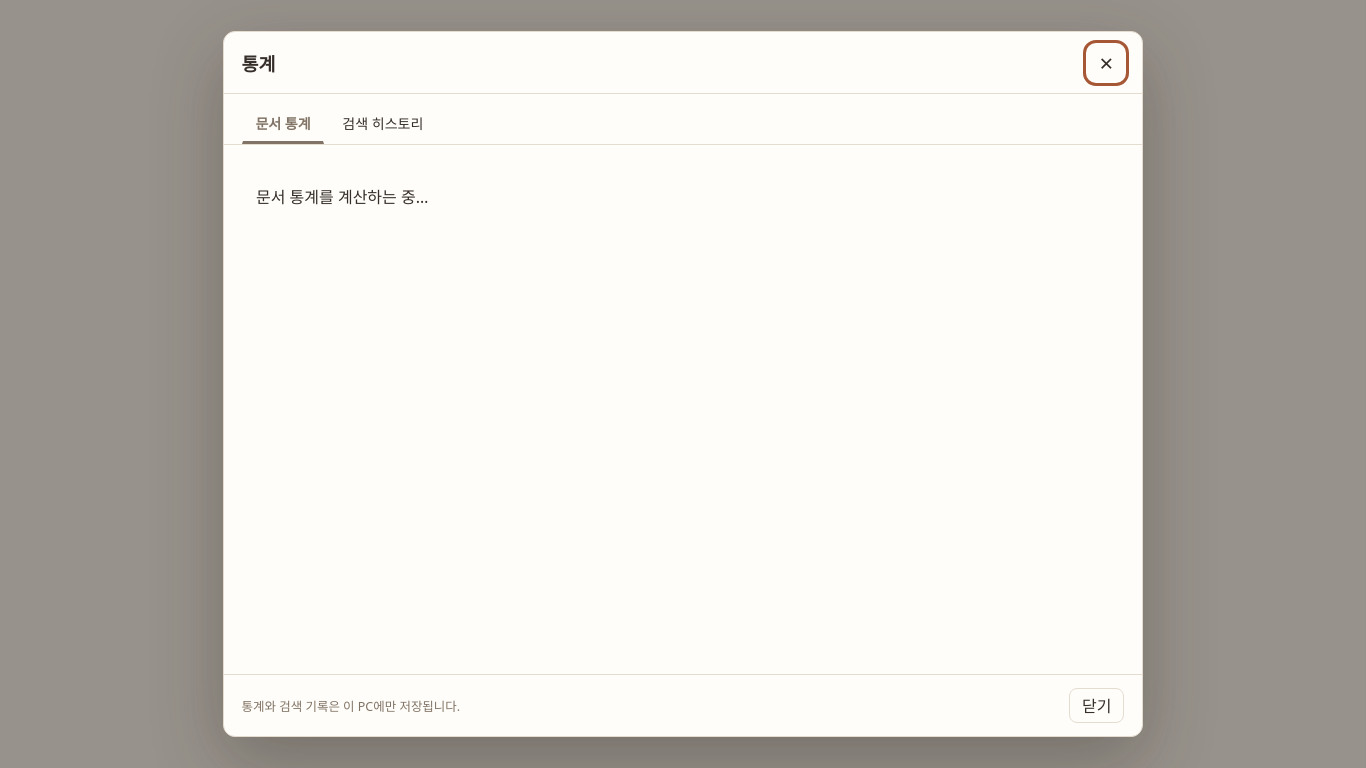
Scenario: StatisticsDialog › clears both recent and frequent history views after a successful clear
What coordinates should you click on to do the following:
click the tab "검색 히스토리"
I would click on:
 (383, 124)
Its box is [328,105,437,144].
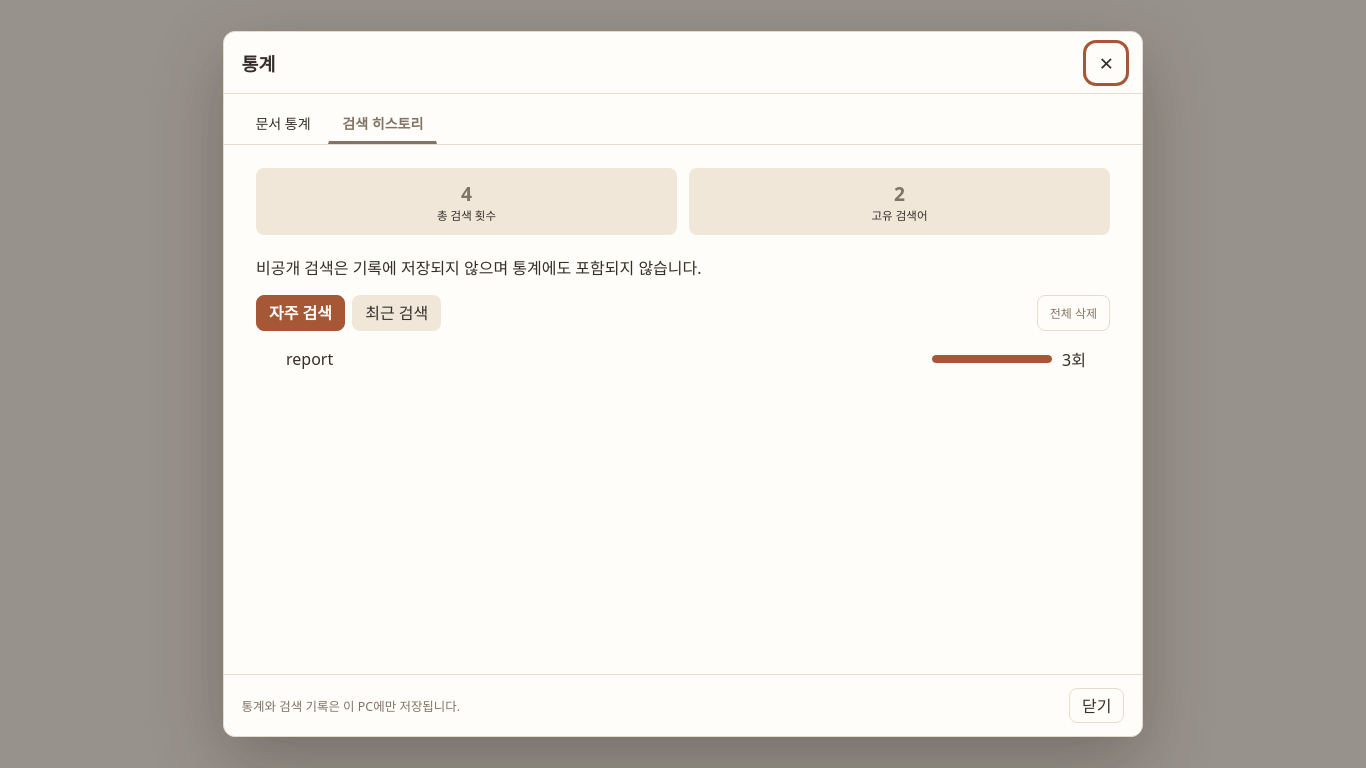
Result: the tab "자주 검색" is shown at [256,295,345,331]
What coordinates should you click on to do the following:
click the button "전체 삭제"
I would click on:
 (1073, 313)
Its box is [1037,295,1110,331].
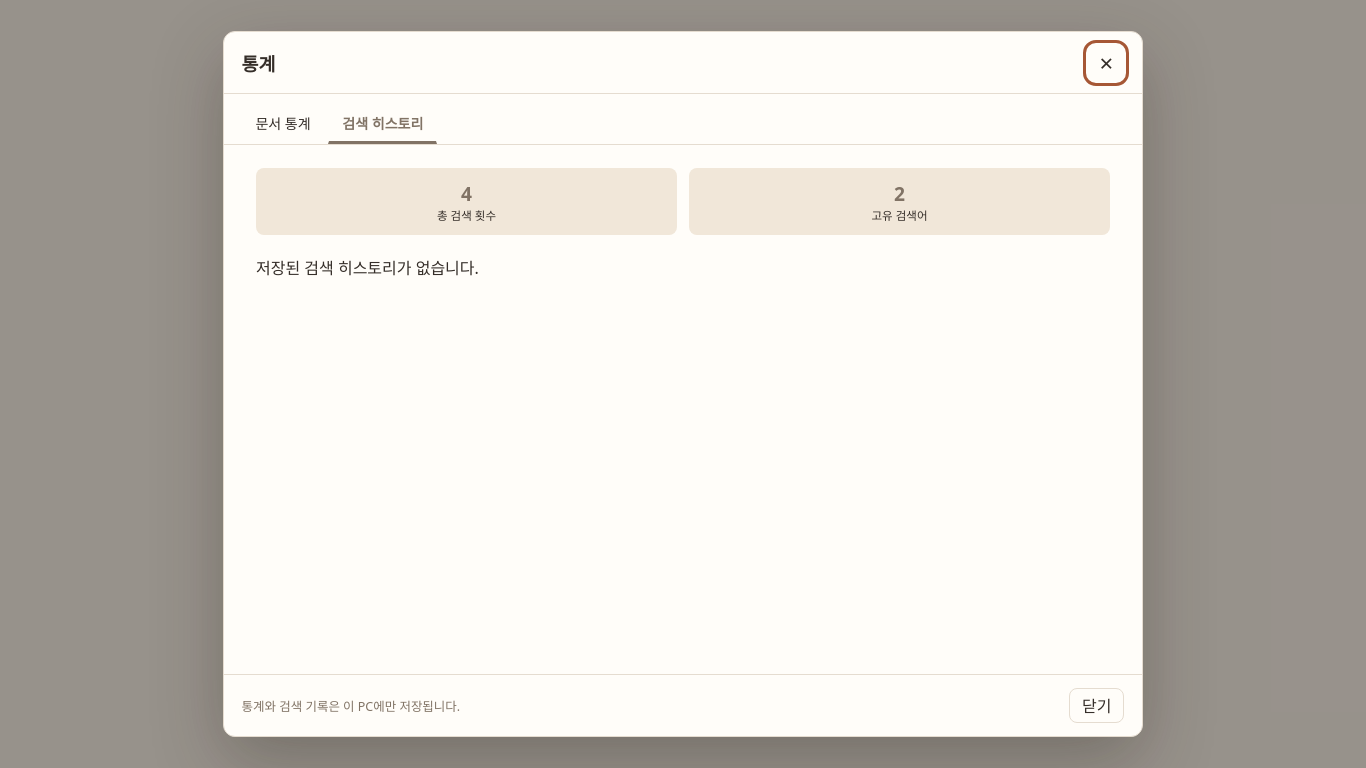
Result: the text "저장된 검색 히스토리가 없습니다." is shown at [256,257,479,279]
Result: the tab "자주 검색" is gone
